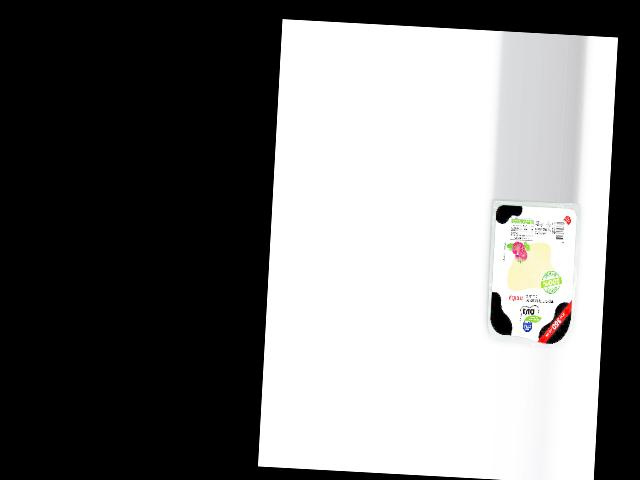cheese: (484, 199, 580, 350)
